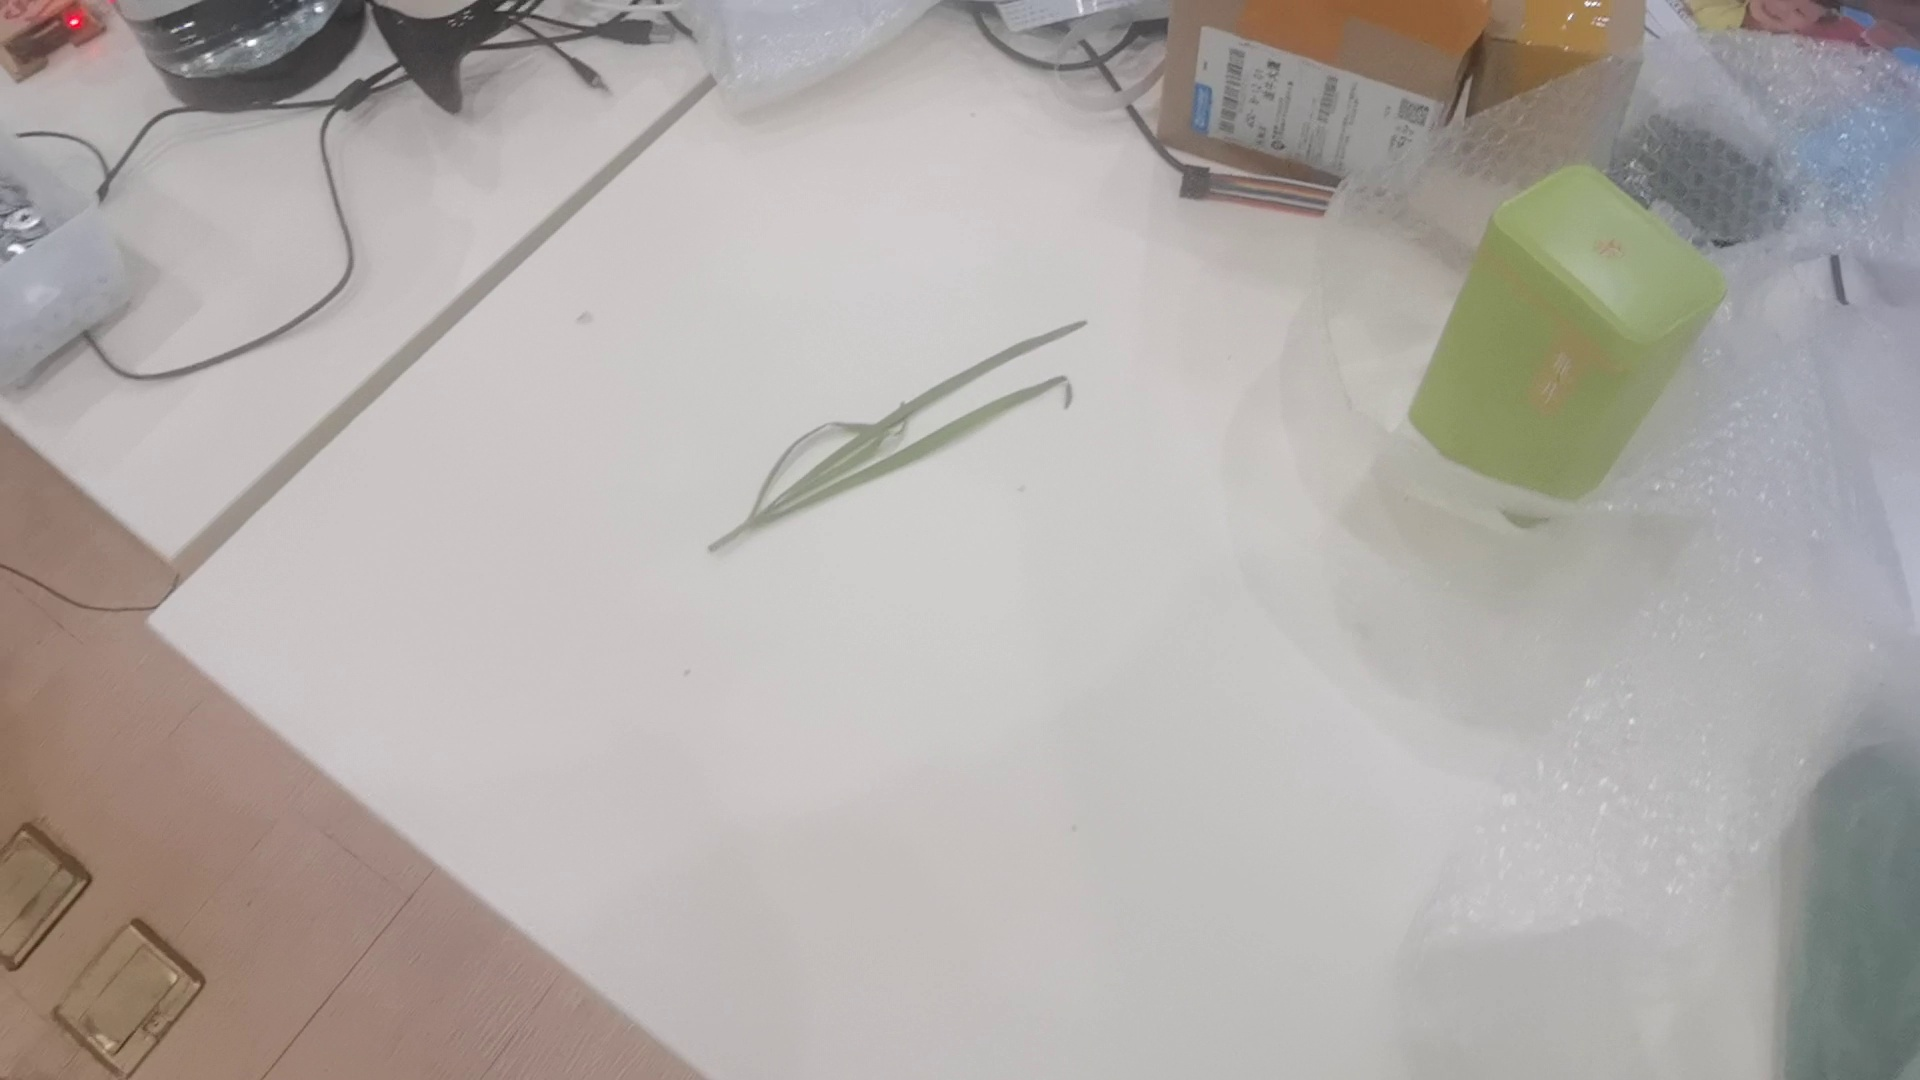chives: (699, 309, 1087, 568)
